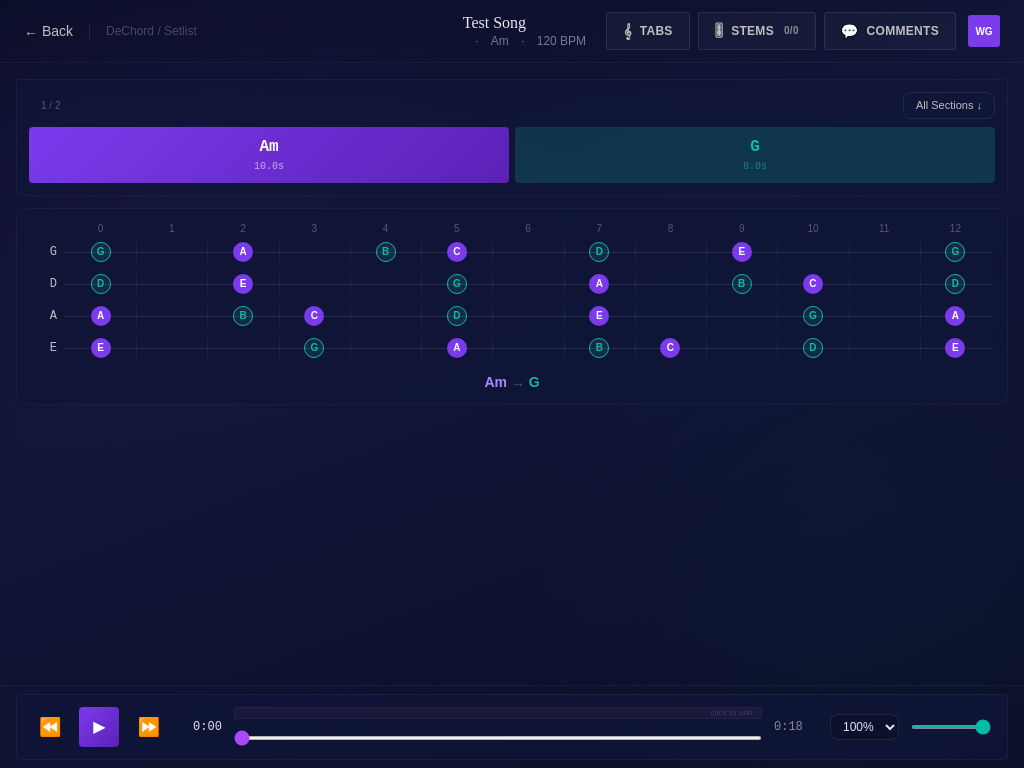
PlayerPage › default duration in create modal = time remaining in clicked chord
The width and height of the screenshot is (1024, 768).
What coordinates should you click on to do the following:
click the element with test id "comment-lane"
I would click on:
 (498, 713)
Its box is [234,707,762,719].
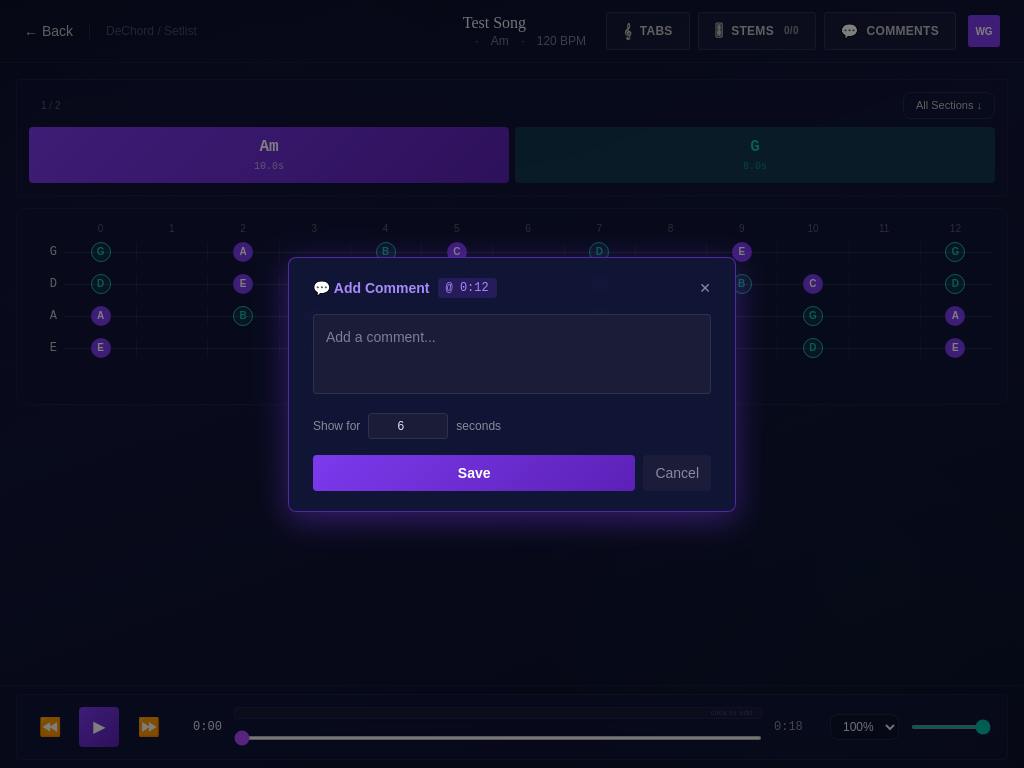
Expected: the text "💬 Add Comment" is shown, [313,278,430,298]
Expected: the number field labelled "Show for" holds "6", [368,412,448,438]
